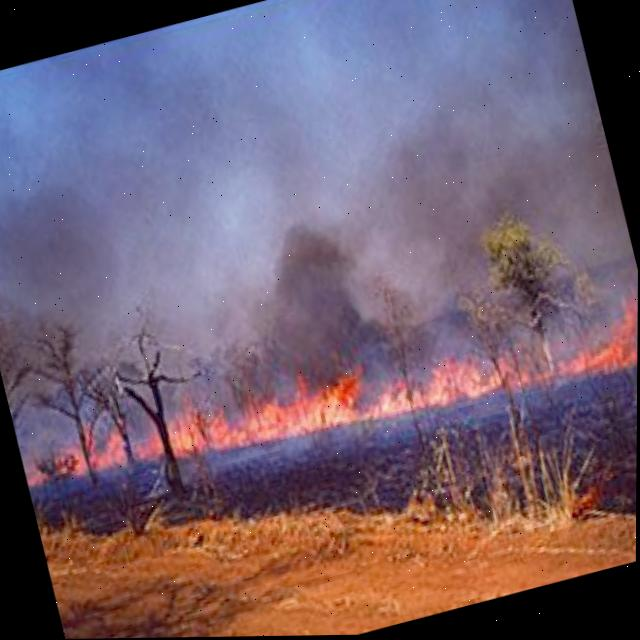fire: (29, 299, 638, 489)
smoke: (0, 0, 638, 453)
